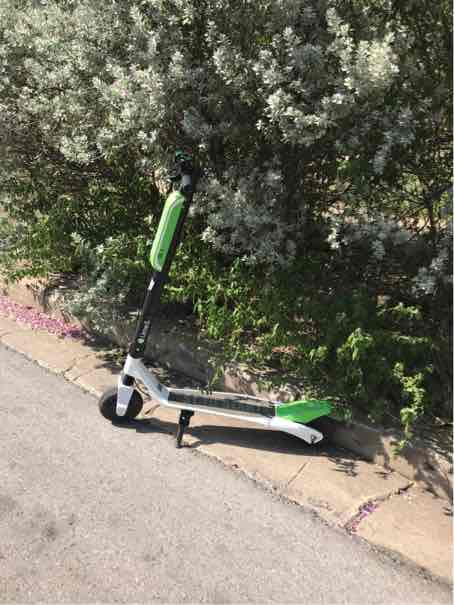scooter: (103, 122, 344, 454)
